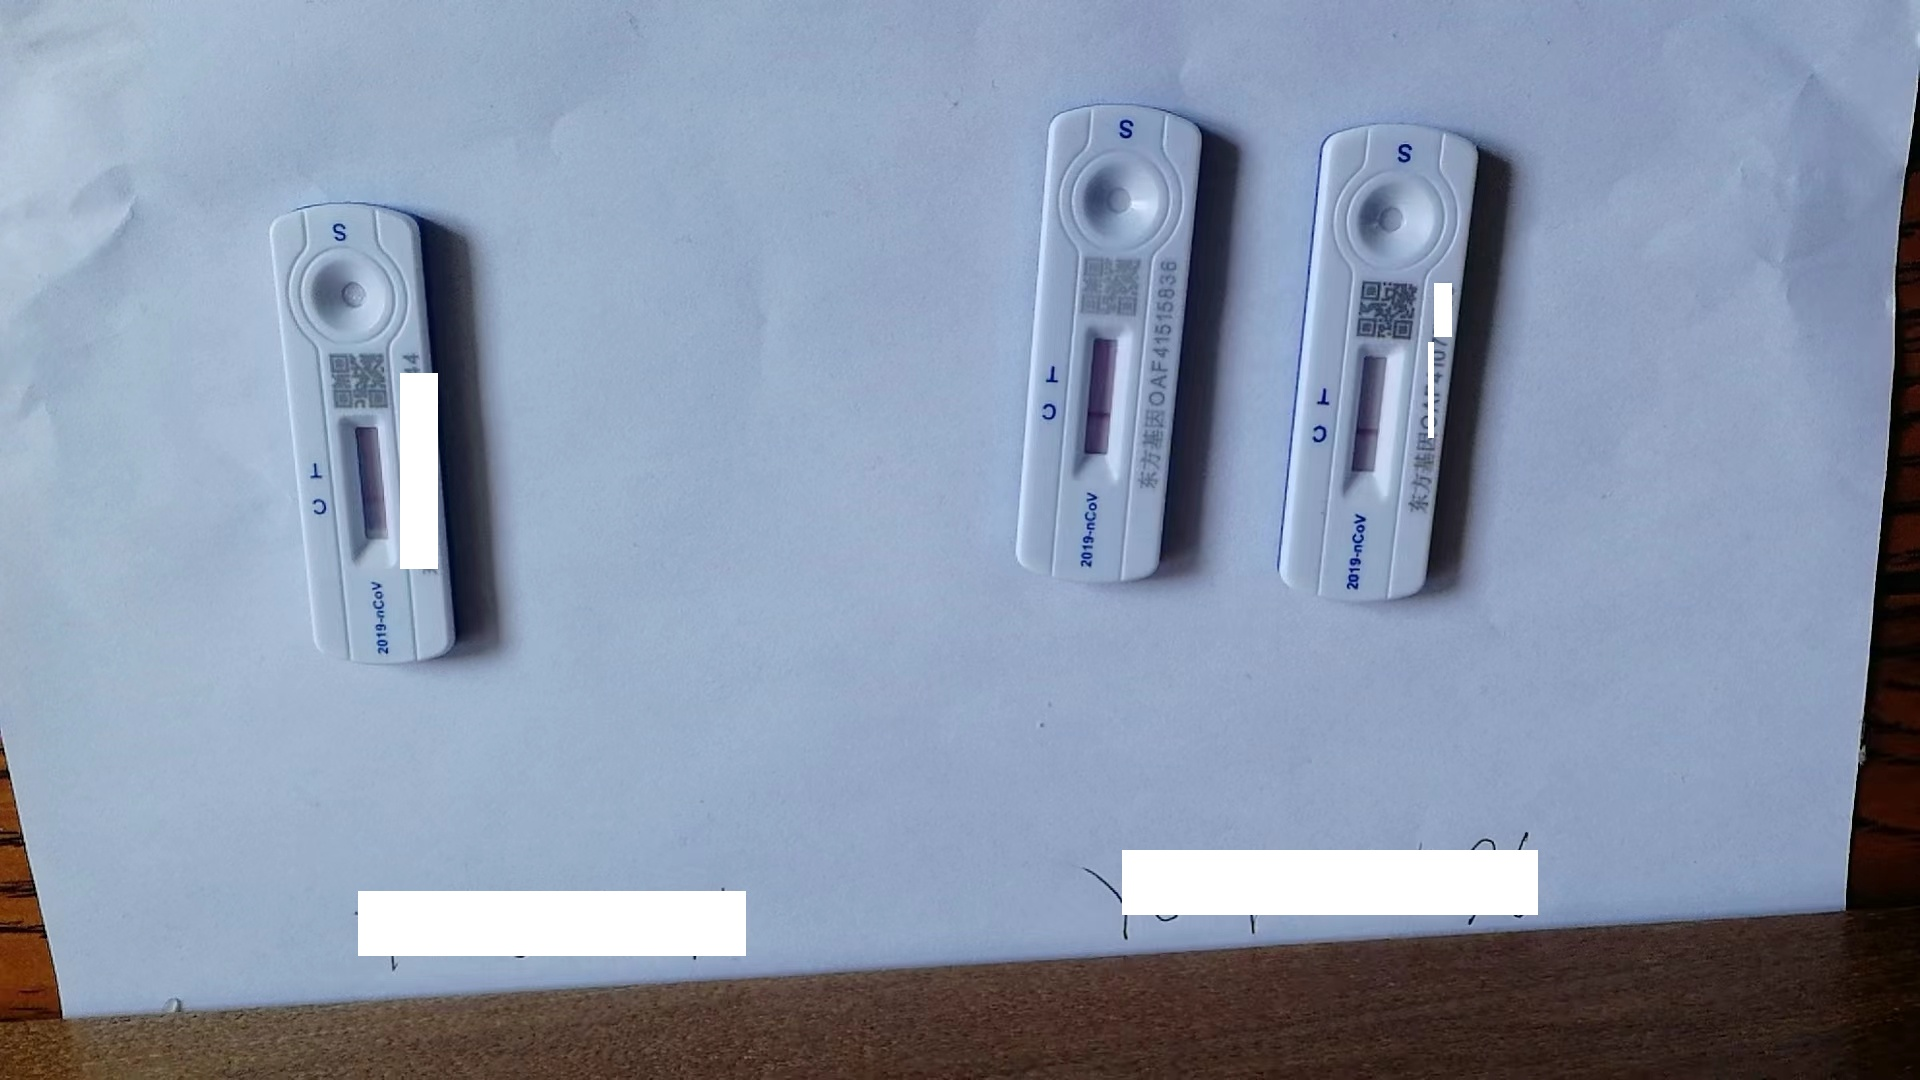negative: (1080, 328, 1124, 481), (1352, 345, 1393, 495)
